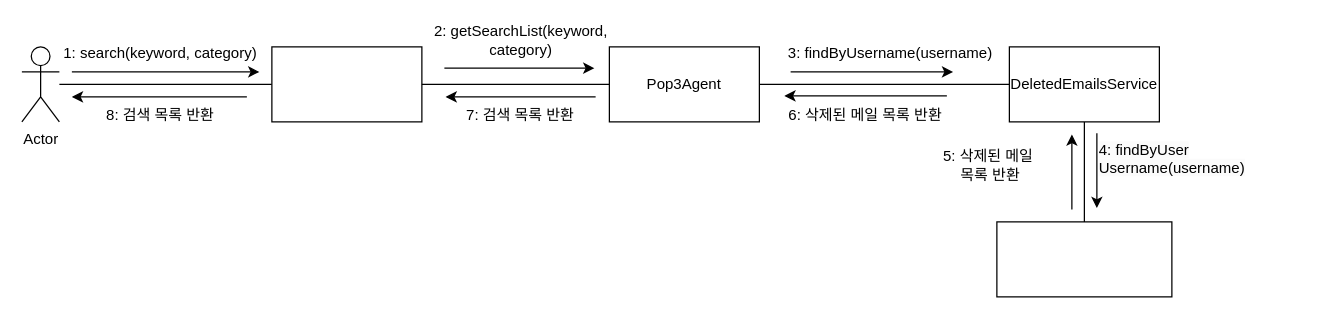
The diagram is 1344 pixels wide and 319 high, and some of its shapes have lost their labels. The shapes that lost their labels are listed below. From the top down, each one's box as (x1, y1, x2, y2) in pixels, then its label:
(271, 46, 422, 122): ReadController
(996, 221, 1172, 297): DeletedEmailsRepository
